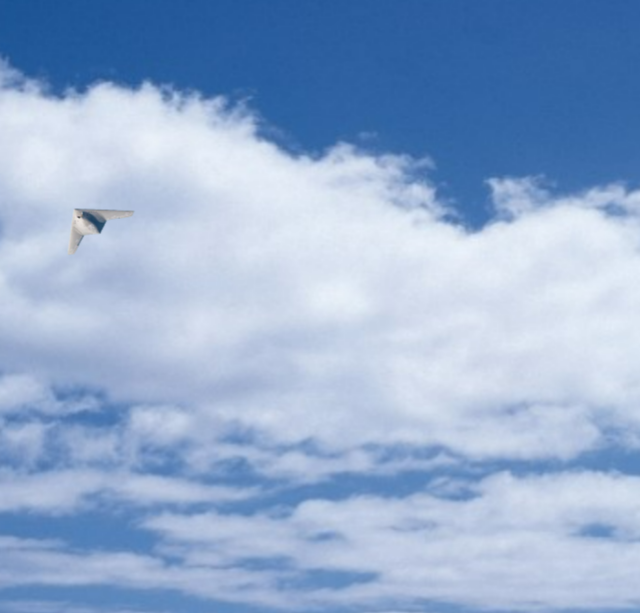military drone: (67, 208, 134, 255)
